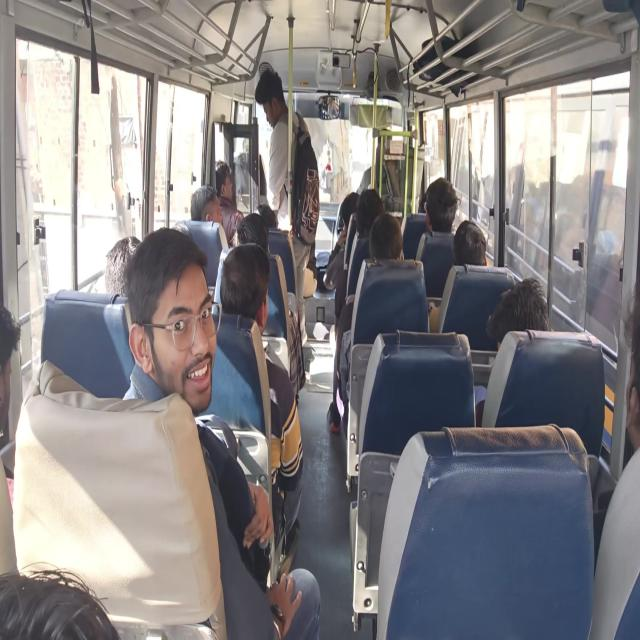person: (121, 226, 321, 638), (0, 304, 121, 638), (219, 242, 304, 551), (589, 278, 640, 638), (254, 68, 320, 346), (327, 212, 404, 433), (474, 276, 550, 424), (334, 188, 384, 334), (428, 219, 487, 332), (485, 276, 550, 350), (323, 192, 359, 290), (214, 160, 243, 246), (105, 236, 142, 296), (424, 176, 458, 234), (452, 219, 487, 266), (190, 184, 223, 223)
